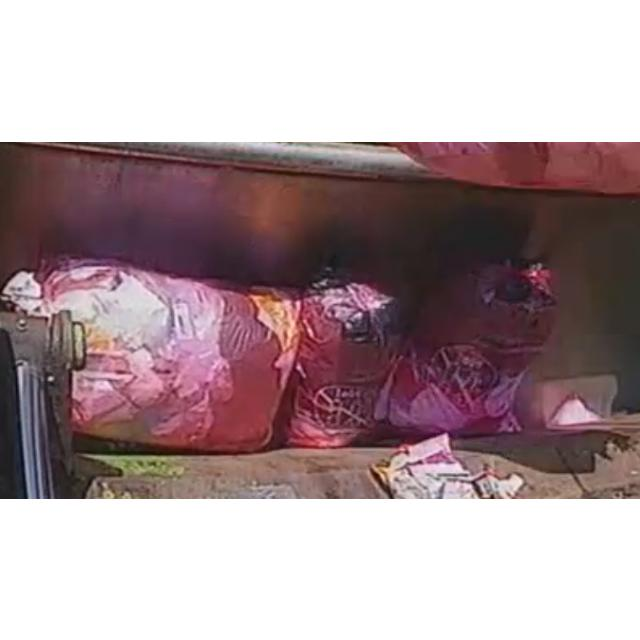other_trashbag: (41, 258, 300, 450), (375, 261, 556, 433), (276, 272, 400, 446)
